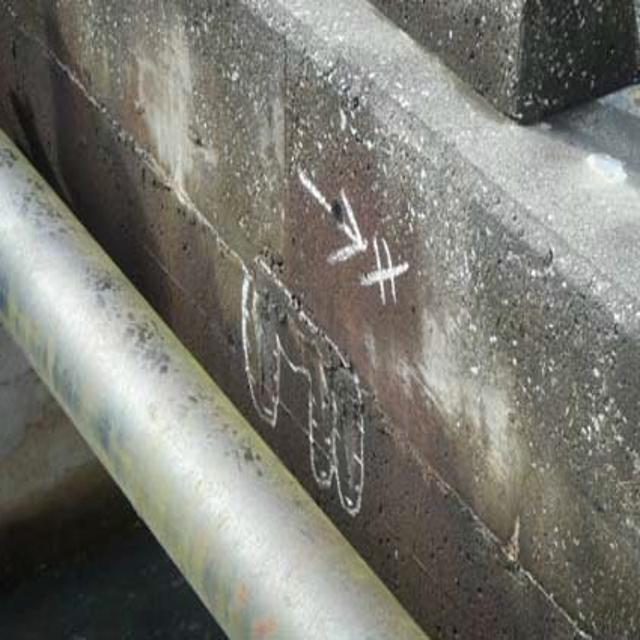freelime: (231, 252, 376, 514)
